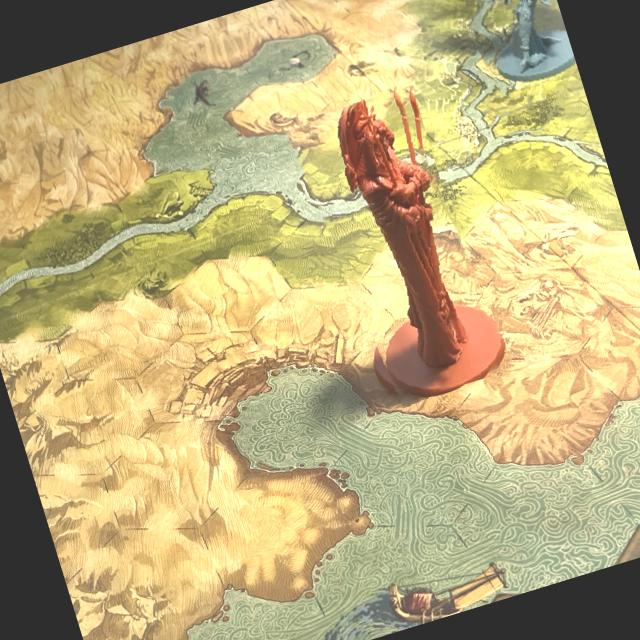amon: (290, 81, 507, 412)
isis: (437, 0, 584, 119)
